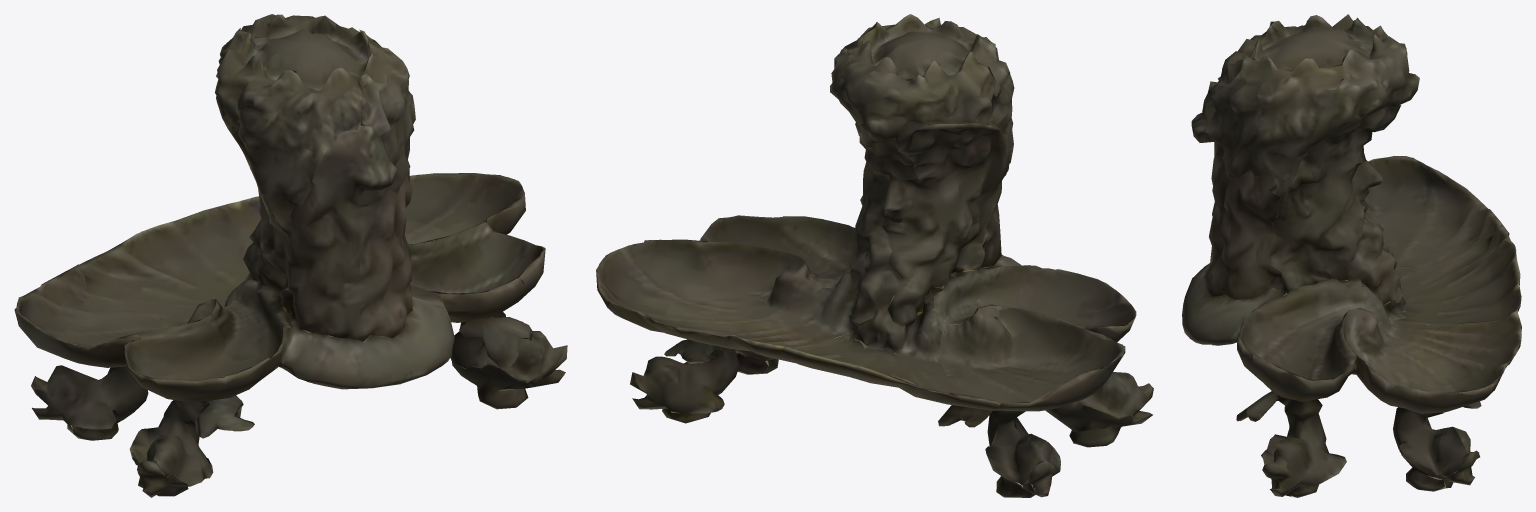
File: obj_inkwell_from_bell_rock_light.glb
The picture shows the model from 3 angles, left to right: view 1: azimuth 30°, elevation 25°; view 2: azimuth 150°, elevation 25°; view 3: azimuth 270°, elevation 25°; orthographic projection. The views are drawn at different scales.
Visible parts, largest first — view 1: default_Material #25_0; view 2: default_Material #25_0; view 3: default_Material #25_0.
Boxes of the visible parts, x1=… form: default_Material #25_0: x1=14, y1=14, x2=567, y2=497; default_Material #25_0: x1=596, y1=14, x2=1153, y2=497; default_Material #25_0: x1=1182, y1=14, x2=1521, y2=497.
Size of the model in its own units: 0.1617 by 0.1204 by 0.0993.
1 material, 1 textured.
